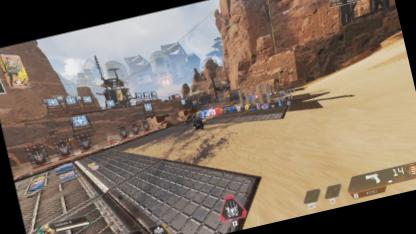Target: (189, 114, 205, 132)
